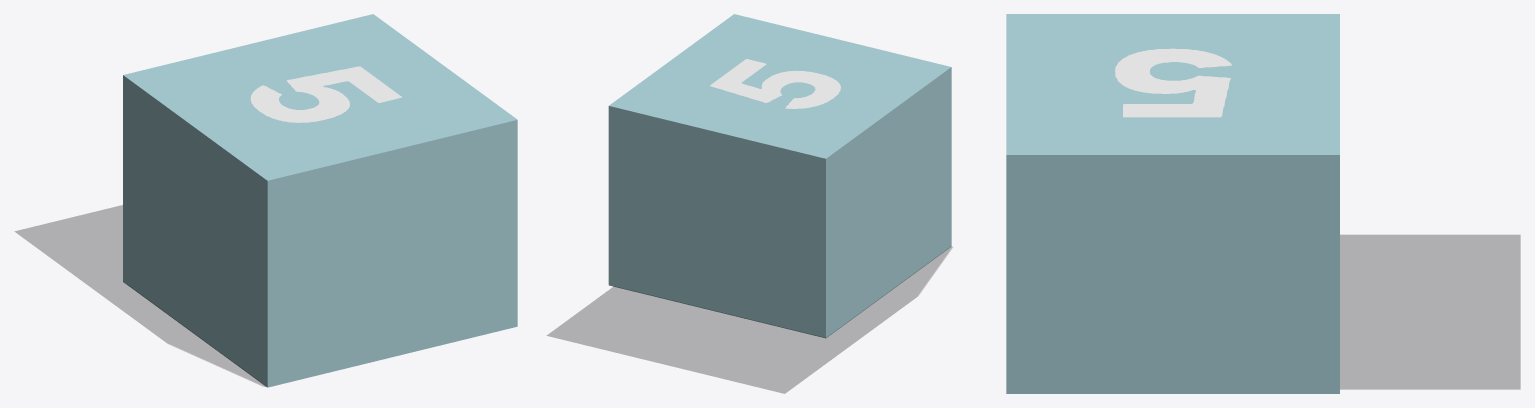
Rendered from numbered_block_4.glb.
3 views of the same model, side by side, from view 1: azimuth 30°, elevation 25°; view 2: azimuth 150°, elevation 25°; view 3: azimuth 270°, elevation 25° (orthographic). The views are drawn at different scales.
Visible parts, largest first — view 1: hitObj, block, Object3D; view 2: hitObj, block, Object3D; view 3: hitObj, block, Object3D.
Boxes of the visible parts, x1,y1,x2,y2 form: hitObj: [123, 14, 517, 387]; block: [15, 205, 266, 386]; Object3D: [250, 66, 402, 122]; hitObj: [608, 14, 951, 338]; block: [547, 246, 952, 393]; Object3D: [710, 59, 840, 108]; hitObj: [1006, 14, 1339, 393]; block: [1340, 235, 1520, 389]; Object3D: [1115, 48, 1232, 117].
Size of the model in its own units: 7.88 by 5.57 by 10.81.
Materials: 4 (3 with a texture image).
